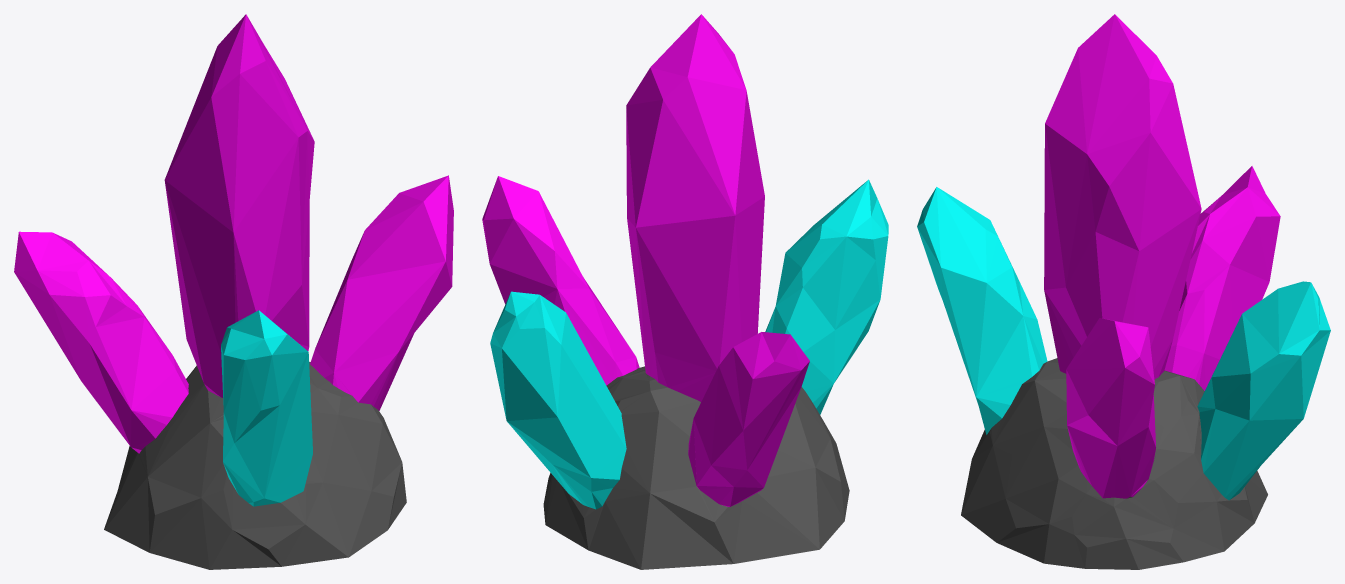
File: CrystalCluster_6.fbx
3 renders of one model, left to right at view 1: azimuth 30°, elevation 25°; view 2: azimuth 150°, elevation 25°; view 3: azimuth 270°, elevation 25°, orthographic.
Parts seen in each view (by area): view 1: CrystalCluster_2; view 2: CrystalCluster_2; view 3: CrystalCluster_2.
Boxes of the visible parts, bbox=[...] form: CrystalCluster_2: bbox=[14, 14, 453, 569]; CrystalCluster_2: bbox=[482, 14, 888, 569]; CrystalCluster_2: bbox=[917, 14, 1330, 569].
Size of the model in its own units: 158 by 197 by 151.
